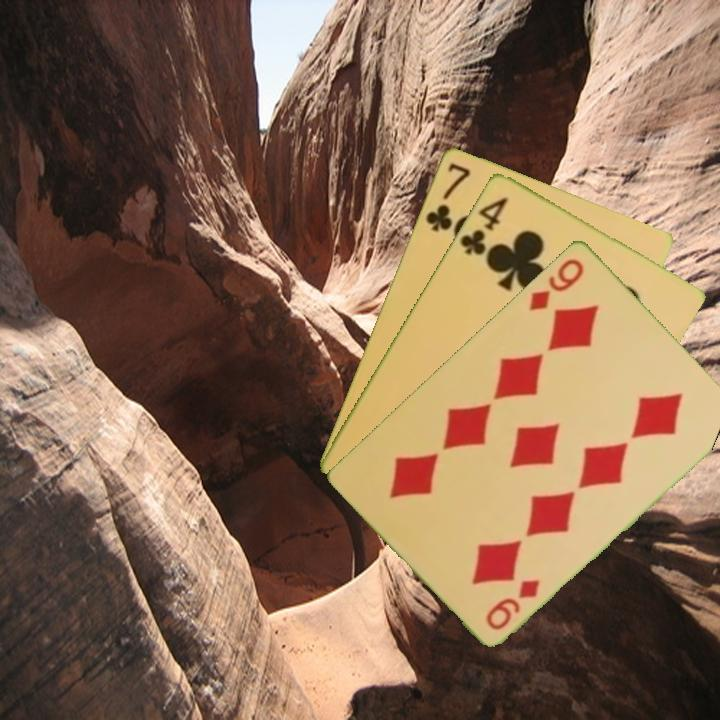4c: (456, 193, 511, 258)
7c: (422, 158, 473, 234)
9d: (525, 254, 587, 314), (482, 575, 543, 633)
